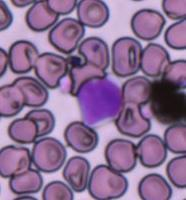L: (77, 74, 123, 128)
